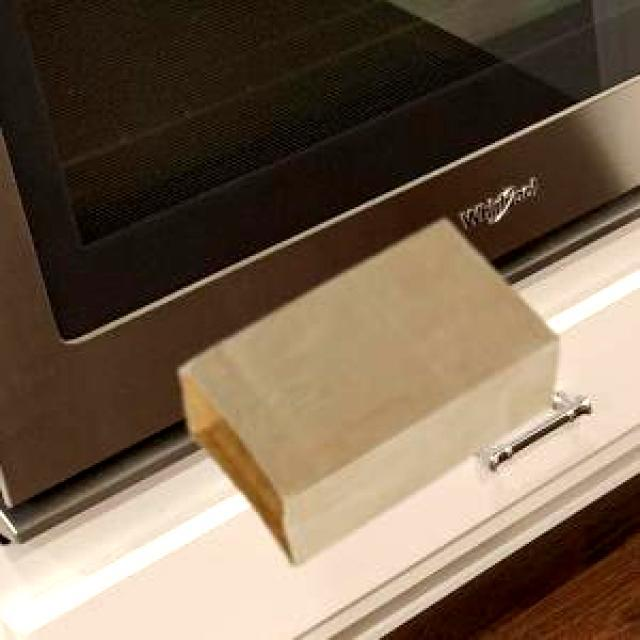Paper_Bag: (176, 217, 556, 562)
